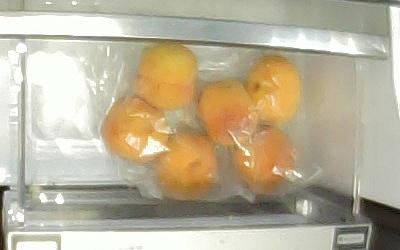peach_vinyl: (128, 41, 199, 111), (99, 95, 170, 162), (154, 127, 218, 200), (193, 77, 259, 146), (244, 53, 302, 125), (234, 126, 295, 189)
